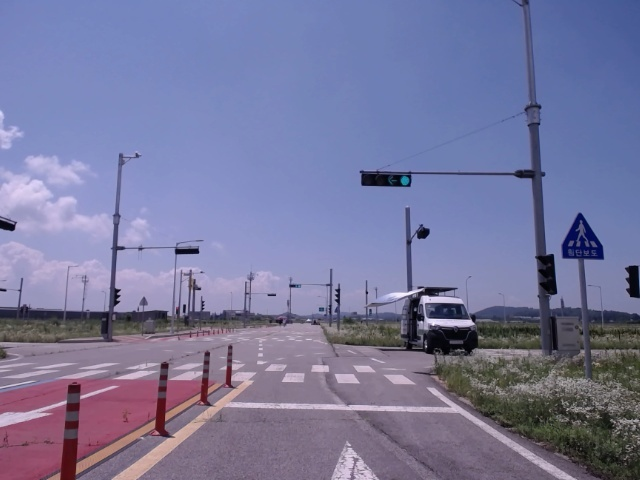all_green_4: (364, 171, 409, 185)
